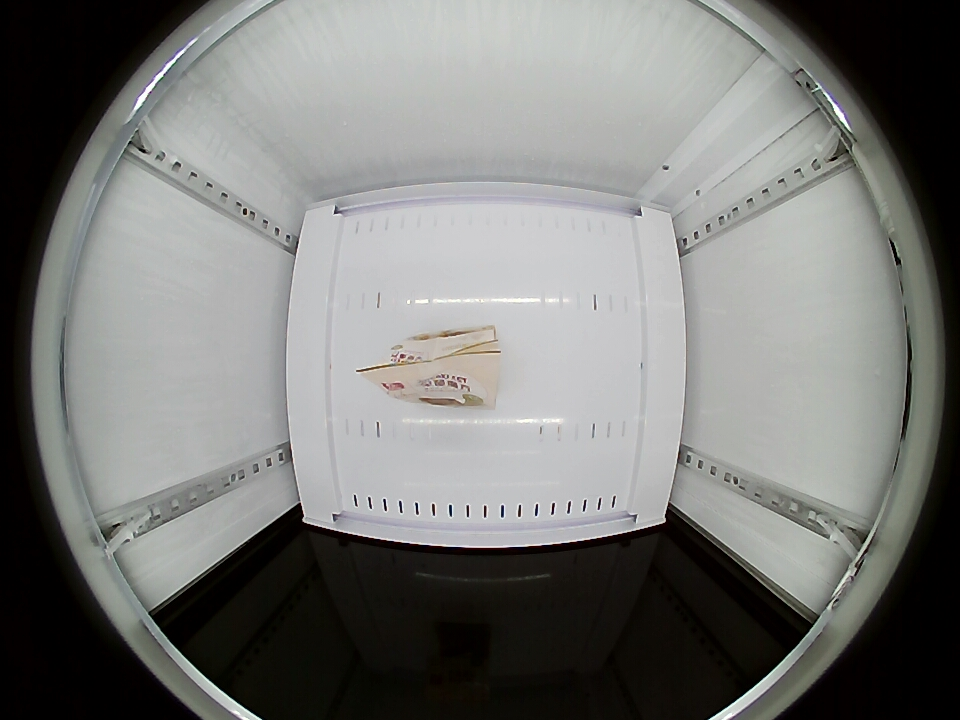zaocanmofang: (365, 327, 501, 403)
